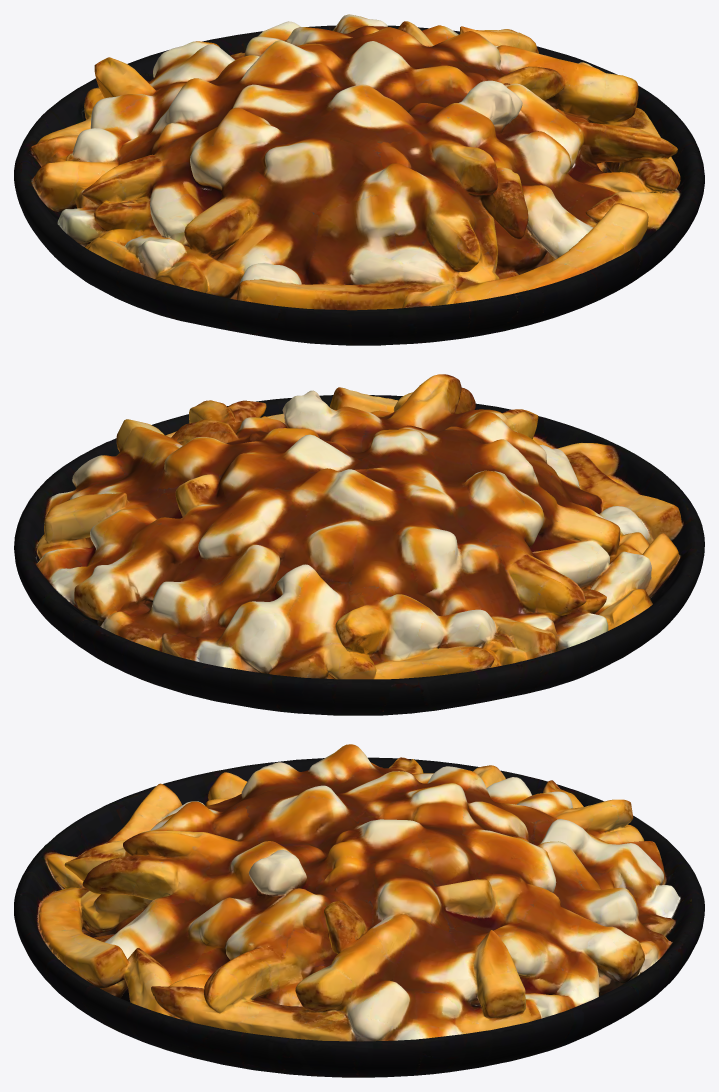
File: poutine-mobile-q.glb
The picture shows the model from 3 angles, top to bottom: view 1: azimuth 30°, elevation 25°; view 2: azimuth 150°, elevation 25°; view 3: azimuth 270°, elevation 25°; orthographic projection.
Parts seen in each view (by area): view 1: Mesh_0.003; view 2: Mesh_0.003; view 3: Mesh_0.003.
Part boxes in pixels (x1,y1,x2,y2): Mesh_0.003: (14,14,704,345); Mesh_0.003: (14,374,704,715); Mesh_0.003: (14,744,704,1077).
Bounding box in the file's own units: 0.1108 × 0.03 × 0.1109.
Materials: 1 (1 with a texture image).
